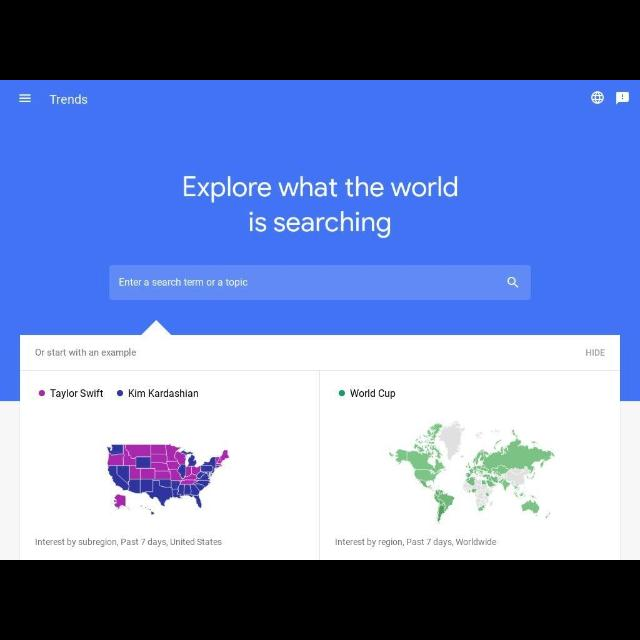icon: (616, 90, 630, 106), (590, 90, 604, 104), (506, 276, 520, 290), (18, 92, 32, 104)
image: (388, 420, 558, 526), (106, 444, 230, 516), (38, 389, 46, 397), (116, 389, 124, 397), (338, 389, 346, 397)
input: (110, 266, 530, 300)
text: (183, 175, 459, 238), (34, 538, 222, 548), (334, 537, 498, 547), (118, 277, 248, 289), (34, 348, 138, 358), (128, 388, 200, 399), (50, 388, 104, 398), (350, 389, 396, 399), (50, 94, 88, 105), (585, 349, 605, 357)
